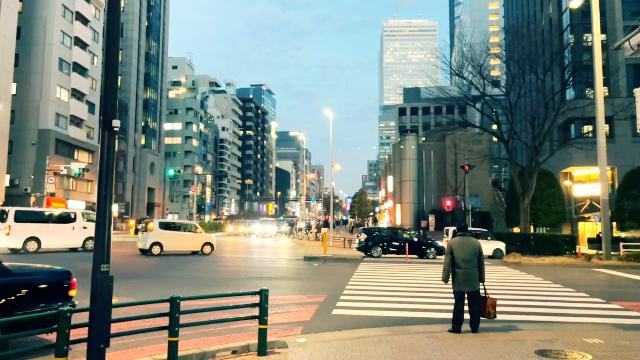berdiri: (439, 222, 497, 338)
